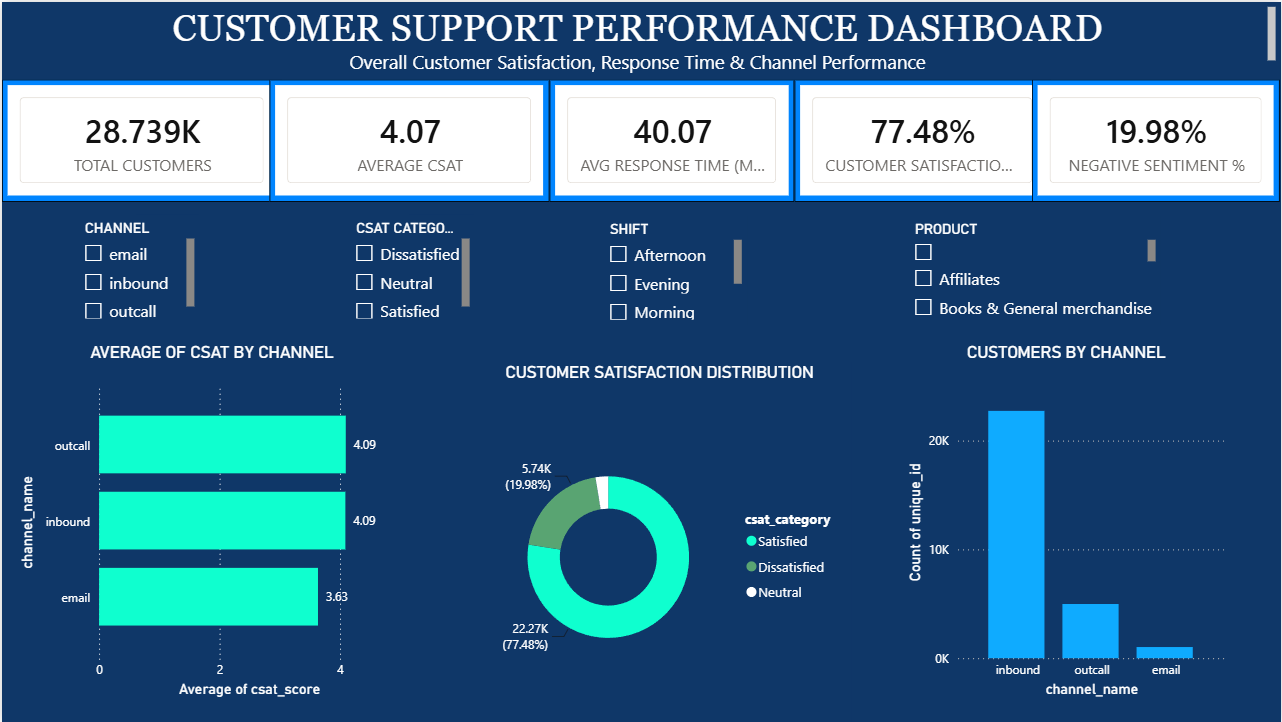

The page's visual inventory and layout, read from the dashboard file:
{"tool":"powerbi","page":{"name":"CUSTOMER SUPPORT PERFORMANCE DASHBOARD","canvas":[1280,720],"ordinal":0},"visuals":[{"type":"cardVisual","title":"TOTAL INTERACTIONS","fields":{"Data":["Count(customer_support_sentiment_scored.unique_id)"]},"box":[0,77.5,280,122.5],"z":0},{"type":"cardVisual","title":"AVERAGE CSAT","fields":{"Data":["Avg(customer_support_sentiment_scored.csat_score)"]},"box":[267.5,77.5,280,122.5],"z":1000},{"type":"donutChart","title":"CUSTOMER SATISFACTION DISTRIBUTION","fields":{"Category":["customer_support_sentiment_scored.csat_category"],"Y":["CountNonNull(customer_support_sentiment_scored.unique_id)"]},"box":[465,360,385,360],"z":2000},{"type":"clusteredColumnChart","title":"CUSTOMERS BY CHANNEL","fields":{"Category":["customer_support_sentiment_scored.channel_name"],"Y":["CountNonNull(customer_support_sentiment_scored.unique_id)"]},"box":[900,340,328.8,360],"z":3000},{"type":"clusteredBarChart","title":"AVERAGE OF CSAT BY CHANNEL","fields":{"Category":["customer_support_sentiment_scored.channel_name"],"Y":["Avg(customer_support_sentiment_scored.csat_score)"]},"box":[12.5,340,395,360],"z":4000},{"type":"cardVisual","fields":{"Data":["customer_support_sentiment_scored.Customer satisfaction Rate"]},"box":[792.5,77.5,256.2,122.5],"z":5000},{"type":"cardVisual","fields":{"Data":["customer_support_sentiment_scored.Clean Average Response Time"]},"box":[547.5,77.5,245,122.5],"z":6000},{"type":"cardVisual","fields":{"Data":["customer_support_sentiment_scored.Negative Sentiment %"]},"box":[1030,77.5,248.8,122.5],"z":7000},{"type":"slicer","fields":{"Values":["customer_support_sentiment_scored.channel_name"]},"box":[70,212.5,127.5,108.8],"z":8000},{"type":"slicer","fields":{"Values":["customer_support_sentiment_scored.csat_category"]},"box":[341.2,212.5,131.2,108.8],"z":9000},{"type":"slicer","fields":{"Values":["customer_support_sentiment_scored.agent_shift"]},"box":[595,213.8,150,108.8],"z":10000},{"type":"slicer","fields":{"Values":["customer_support_sentiment_scored.product_category"]},"box":[900,213.8,258.8,108.8],"z":11000},{"type":"textbox","box":[0,0,1278.8,77.5],"z":12000}]}

Visuals, with their boxes in screenshot pixels (x1, y1, x2, y2), scaled from the page's 1280x720 canvas onto the 1282x722 screenshot:
"TOTAL INTERACTIONS" cardVisual: 0 78 280 201
"AVERAGE CSAT" cardVisual: 268 78 548 201
"CUSTOMER SATISFACTION DISTRIBUTION" donutChart: 466 361 851 721
"CUSTOMERS BY CHANNEL" clusteredColumnChart: 901 341 1231 702
"AVERAGE OF CSAT BY CHANNEL" clusteredBarChart: 13 341 408 702
cardVisual - customer_support_sentiment_scored.Customer satisfaction Rate: 794 78 1050 201
cardVisual - customer_support_sentiment_scored.Clean Average Response Time: 548 78 794 201
cardVisual - customer_support_sentiment_scored.Negative Sentiment %: 1032 78 1281 201
slicer - customer_support_sentiment_scored.channel_name: 70 213 198 322
slicer - customer_support_sentiment_scored.csat_category: 342 213 473 322
slicer - customer_support_sentiment_scored.agent_shift: 596 214 746 323
slicer - customer_support_sentiment_scored.product_category: 901 214 1161 323
textbox: 0 0 1281 78
